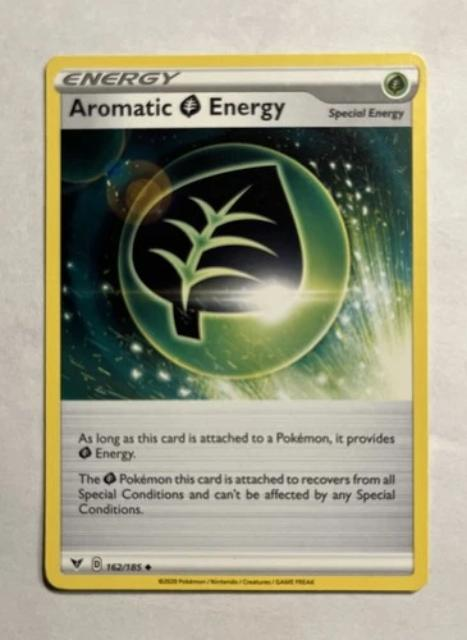Card: (39, 48, 432, 596)
Name: (62, 92, 293, 128)
